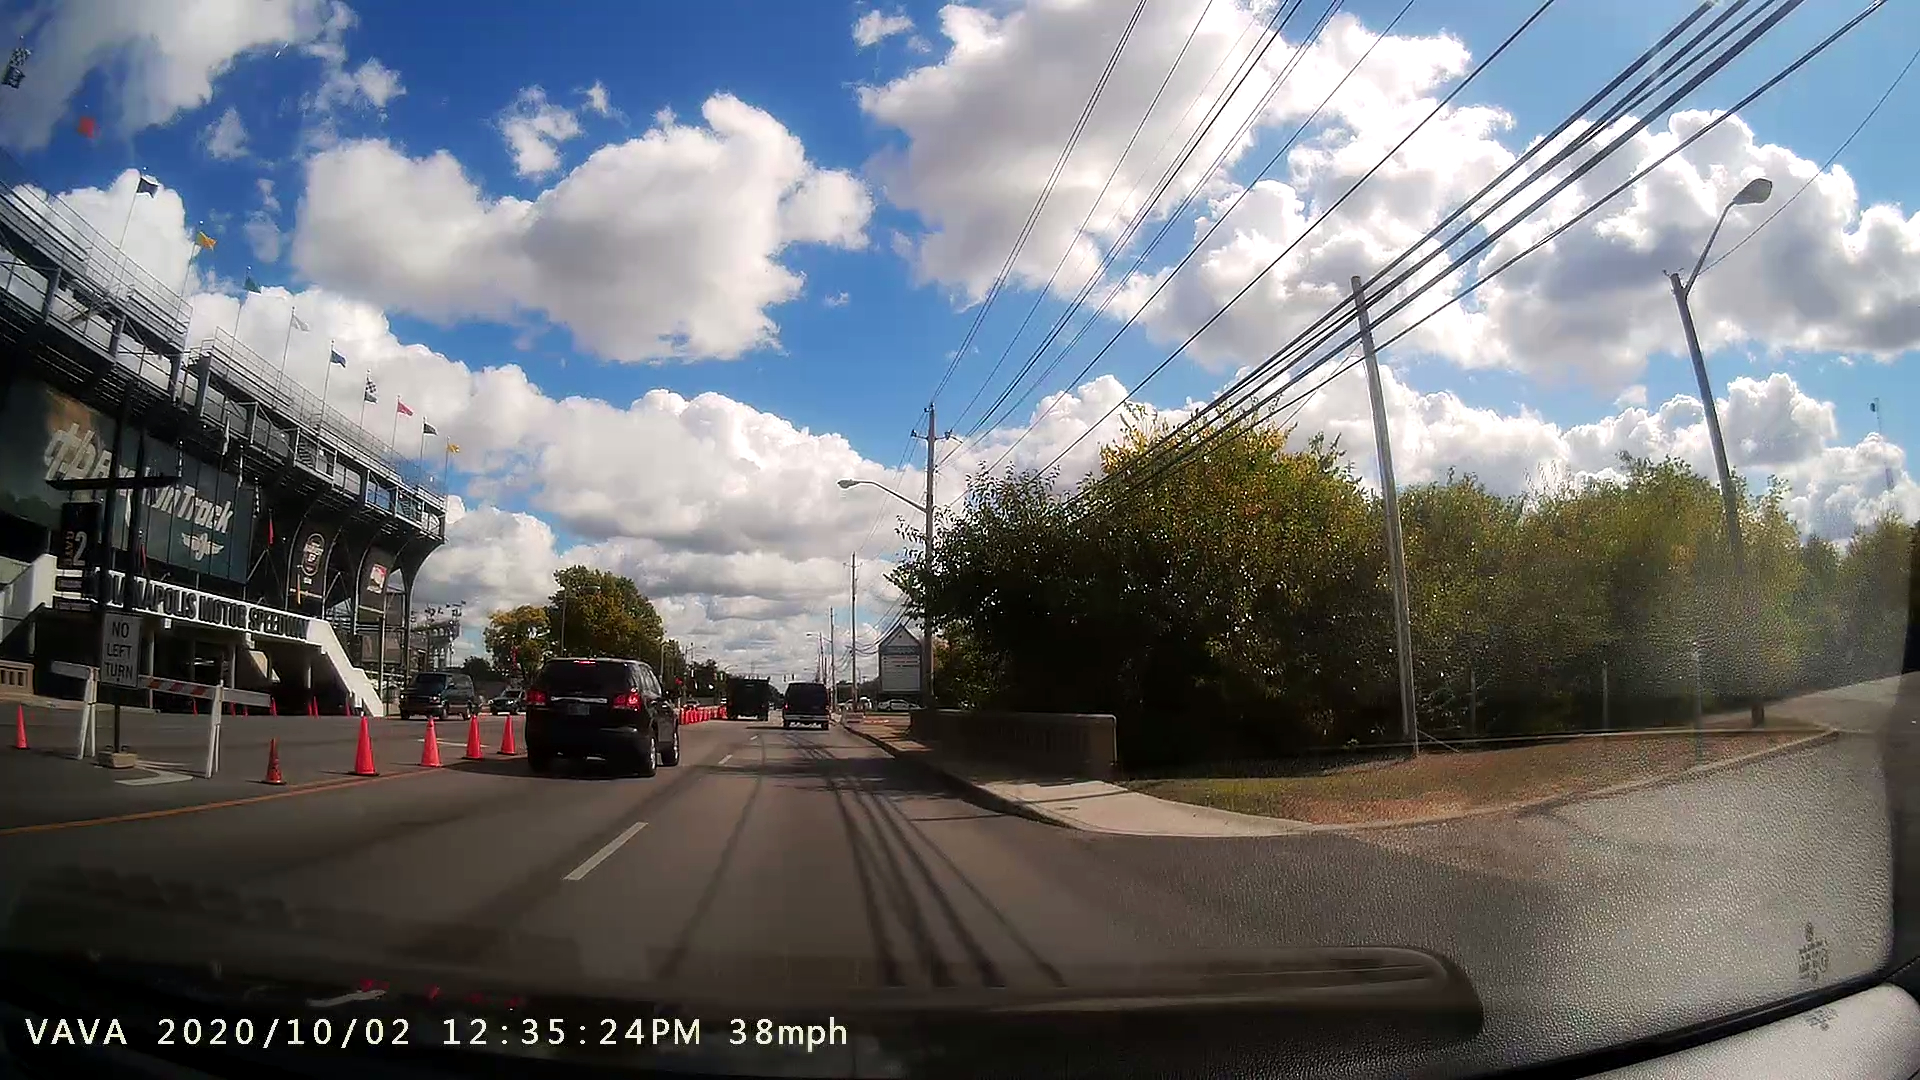const_cone: (462, 698, 505, 774), (411, 705, 452, 779), (252, 733, 287, 798), (345, 713, 378, 779)
